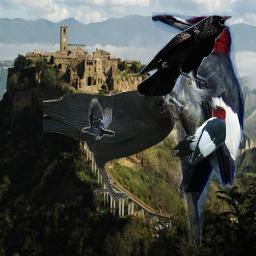Crow: (43, 87, 180, 202), (137, 14, 232, 96), (81, 98, 115, 140)
Woodpecker: (152, 12, 245, 247), (170, 101, 226, 165)
